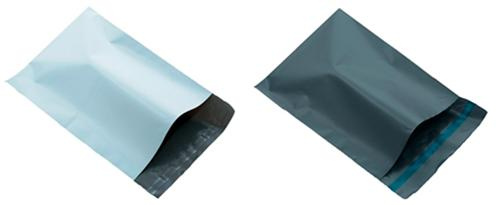Parcel: (255, 9, 487, 199), (7, 9, 233, 198)
